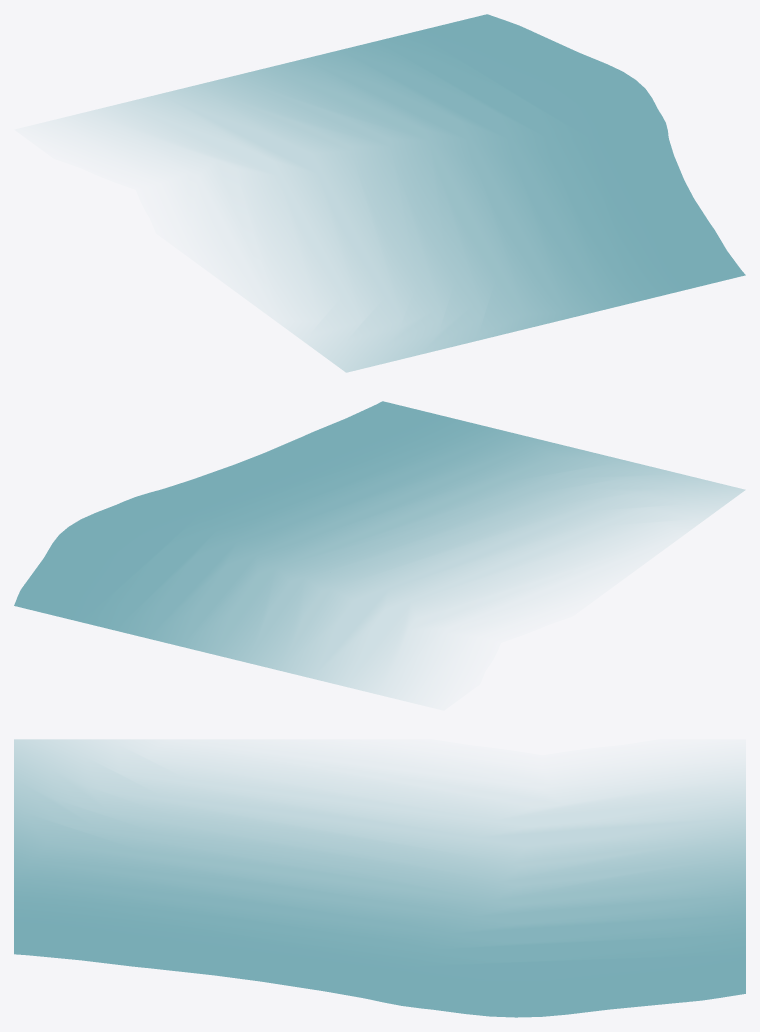
The picture shows the model from 3 angles, top to bottom: view 1: azimuth 30°, elevation 25°; view 2: azimuth 150°, elevation 25°; view 3: azimuth 270°, elevation 25°; orthographic projection. The views are drawn at different scales.
Visible parts, largest first — view 1: city; view 2: city; view 3: city.
Boxes of the visible parts, bbox=[...] form: city: bbox=[65, 14, 745, 372]; city: bbox=[14, 401, 744, 698]; city: bbox=[14, 739, 745, 1017].
Size of the model in its own units: 449 by 0 by 500.
